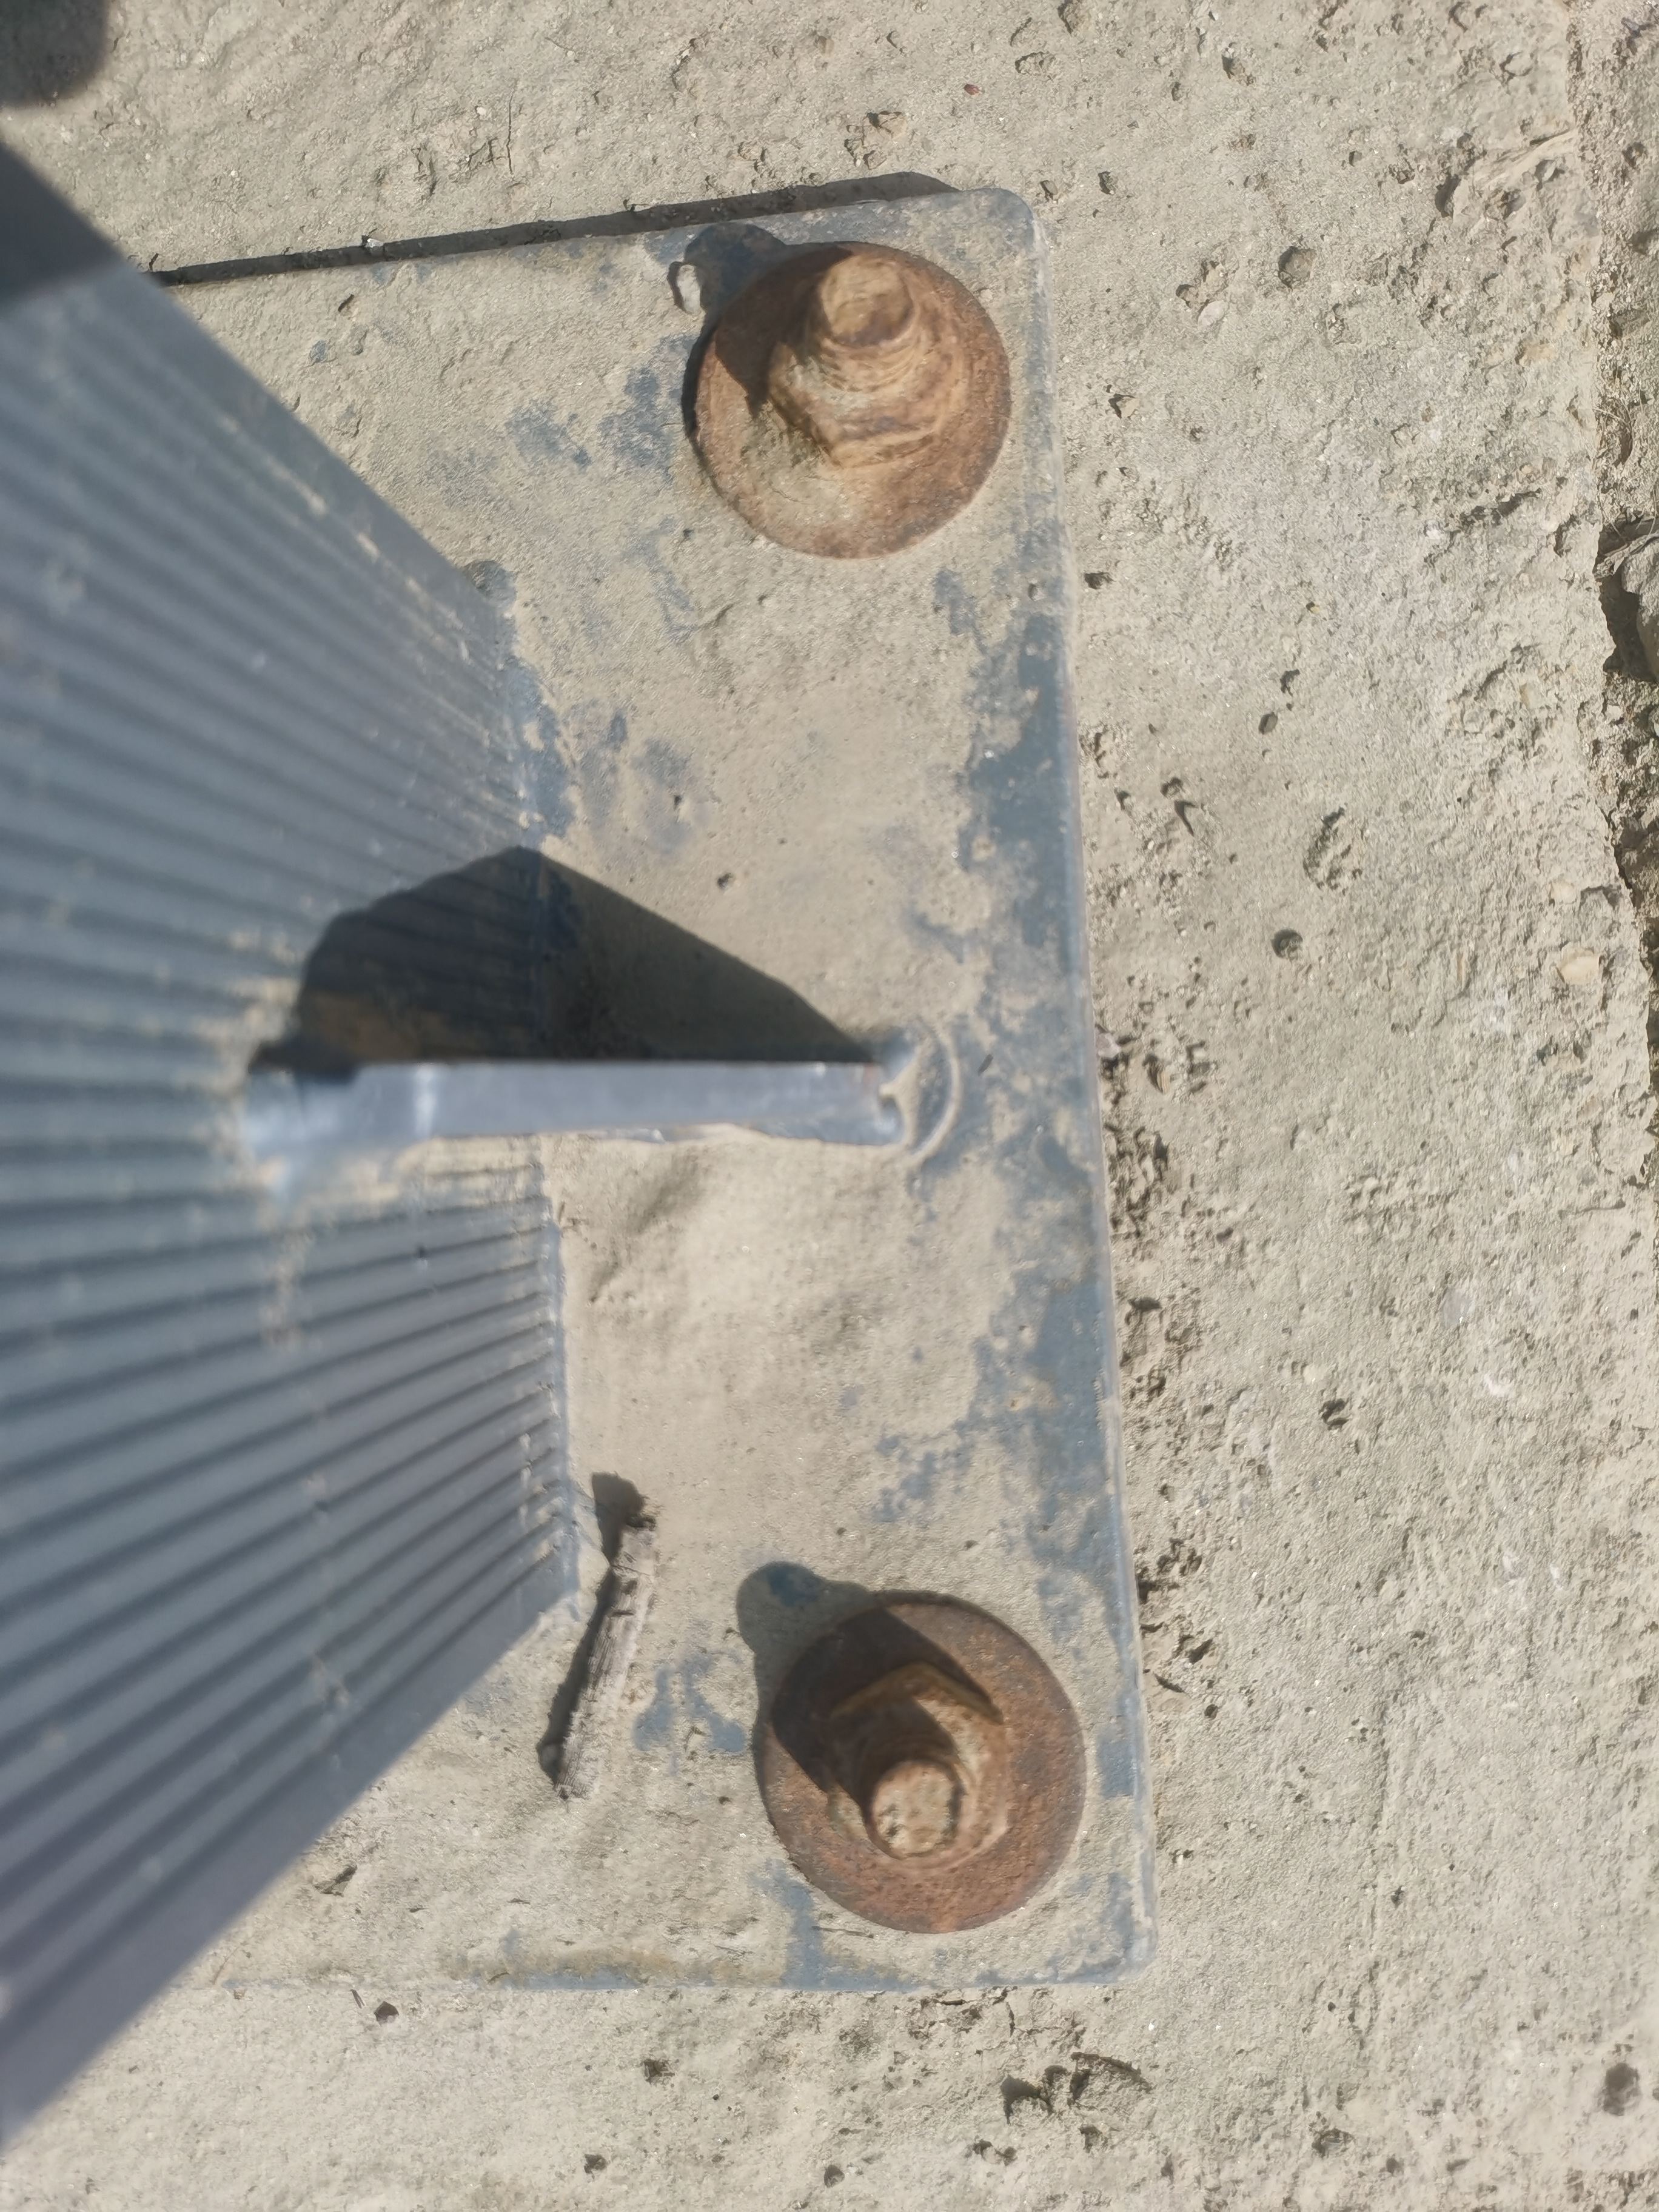bolt_b: (748, 251, 974, 474), (812, 1655, 1021, 1892)
